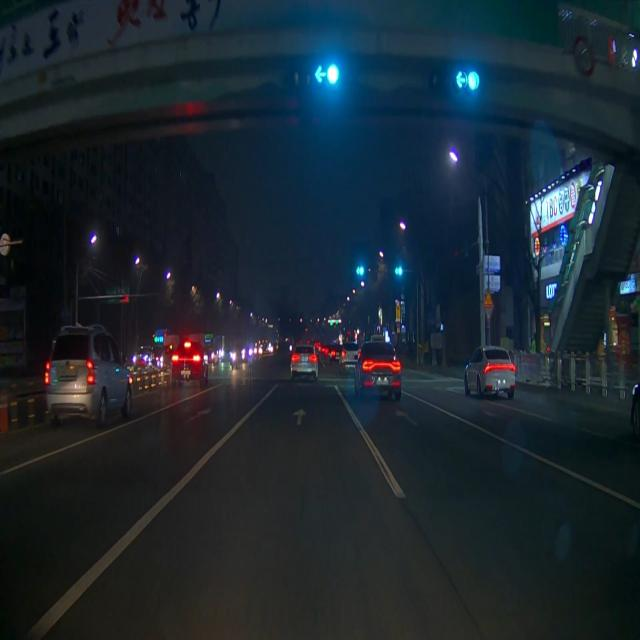Green Light: (326, 57, 341, 89), (467, 66, 481, 98)
